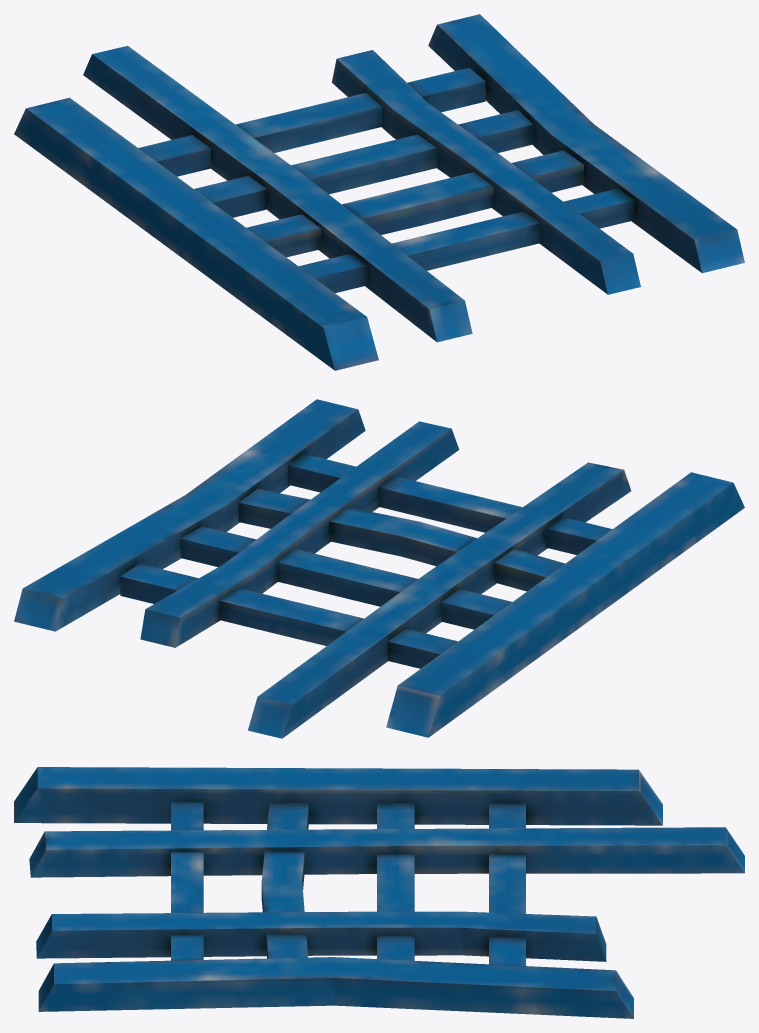
File: junk_00-v1.glb
The picture shows the model from 3 angles, top to bottom: view 1: azimuth 30°, elevation 25°; view 2: azimuth 150°, elevation 25°; view 3: azimuth 270°, elevation 25°; orthographic projection. The views are drawn at different scales.
Parts seen in each view (by area): view 1: junk_00; view 2: junk_00; view 3: junk_00.
Part boxes in pixels (x1,y1,x2,y2): junk_00: (14,14,744,370); junk_00: (14,399,744,738); junk_00: (14,767,744,1018).
Size of the model in its own units: 2.26 by 0.1906 by 3.21.
1 material, 1 textured.
